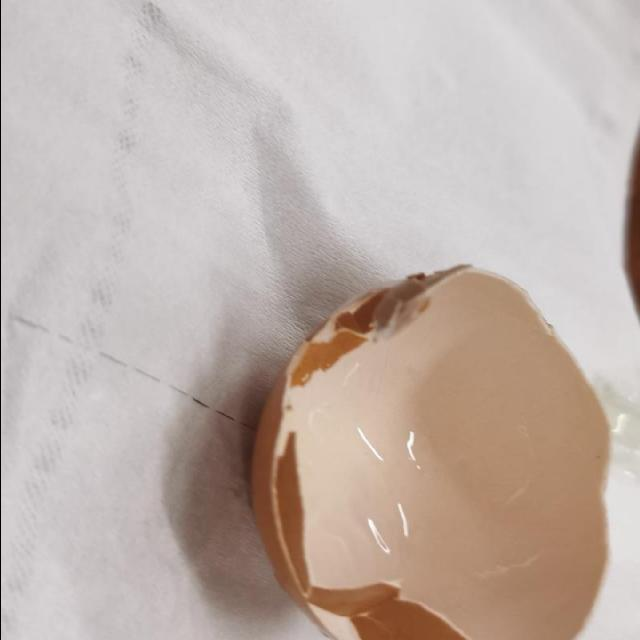egg shell: (249, 268, 605, 640)
